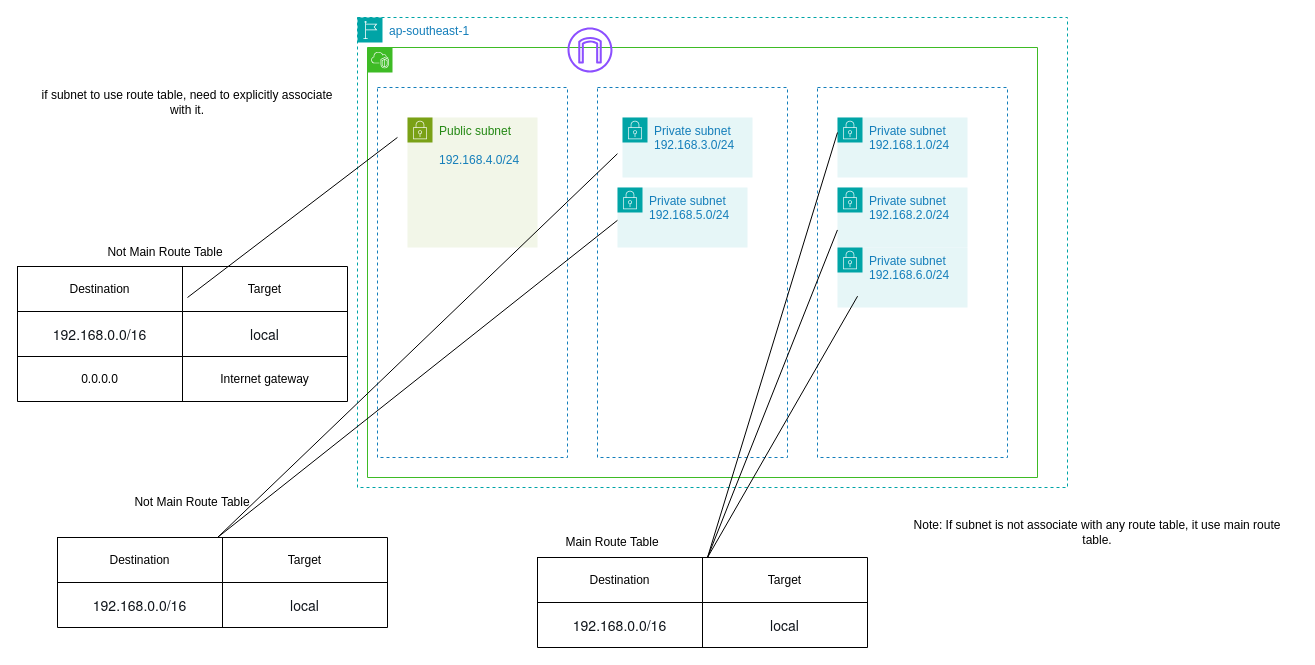
This 1315x665 diagram has some shape labels left out. The box of each missing label's shape, as (x1, y1, x2, y2) in pixels:
ap-southeast-1a: (376, 86, 568, 458)
ap-southeast-1b: (596, 86, 788, 458)
ap-southeast-1c: (816, 86, 1008, 458)
vpc-09b86f23d51501560 ( 192.168.0.0/16): (366, 46, 1038, 478)
